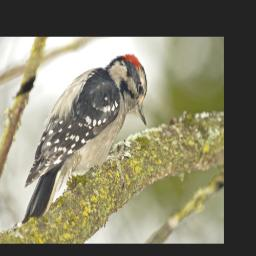Woodpecker: (11, 51, 148, 230)
